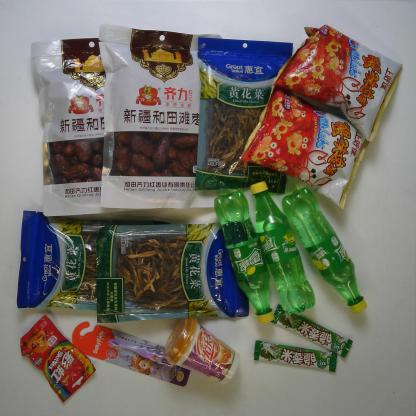Candy: (20, 314, 96, 404)
Chocolate: (270, 305, 353, 359), (252, 339, 338, 374)
Dried Food: (98, 21, 223, 210), (29, 37, 131, 217), (14, 210, 189, 314), (193, 37, 295, 197), (93, 221, 250, 323)
Drink: (282, 186, 368, 314), (248, 180, 316, 315), (214, 190, 274, 324)
Instant Drink: (163, 316, 241, 386)
Personal Hygiene: (71, 322, 191, 386)
Puffed Food: (236, 86, 370, 206), (272, 24, 405, 142)
